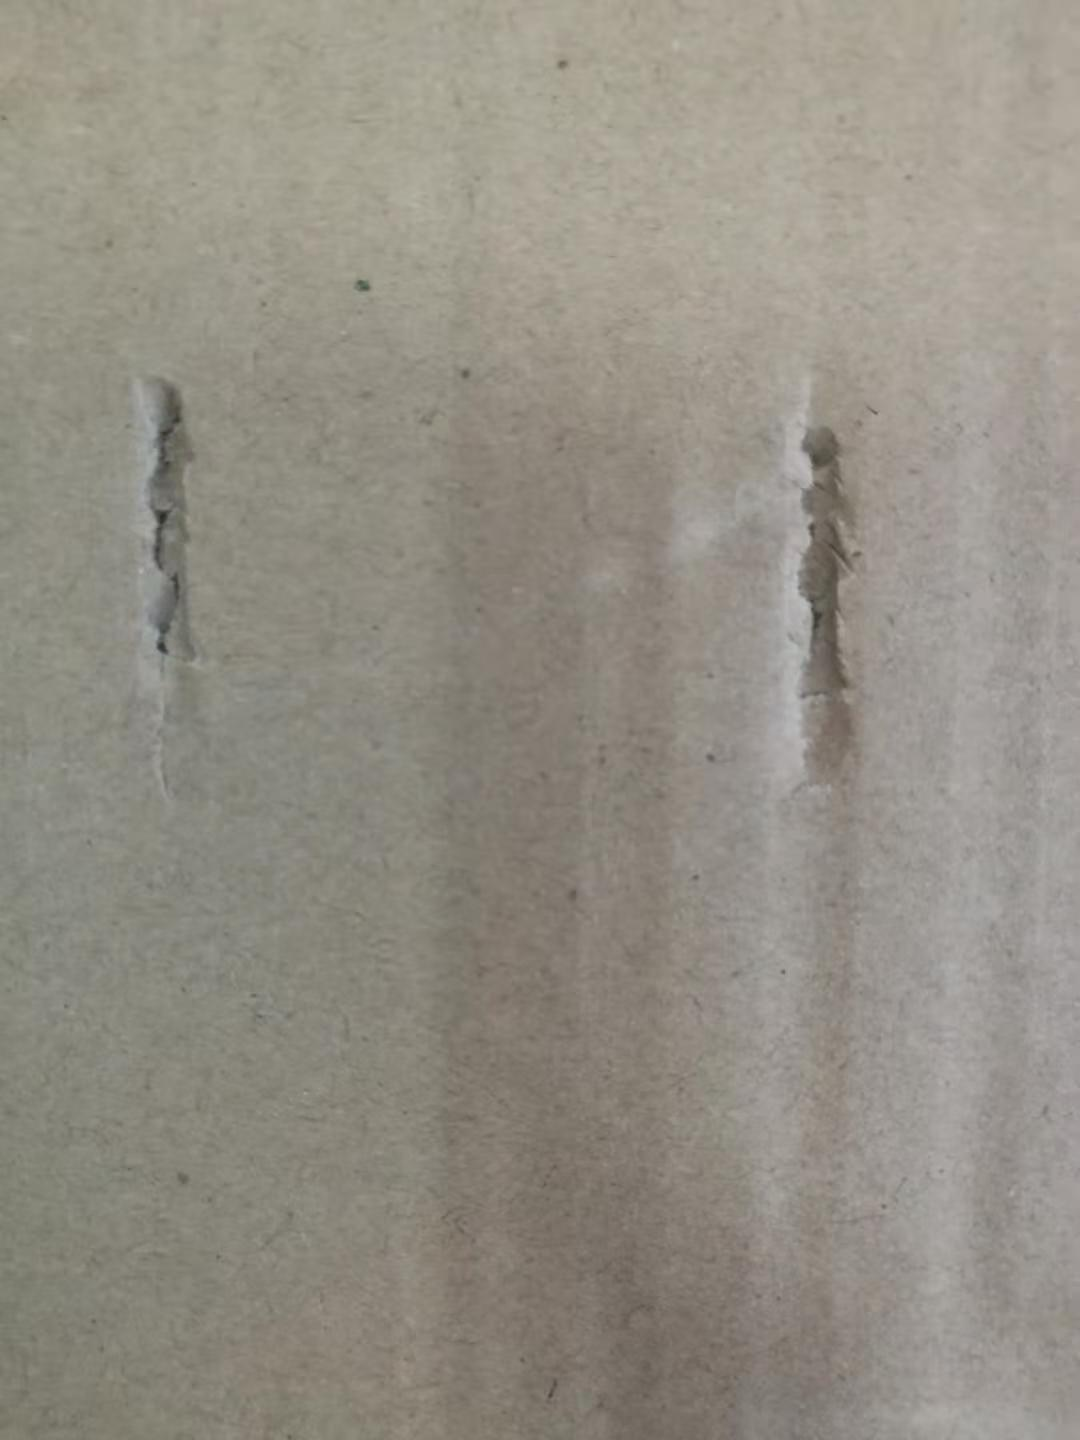defect: (577, 351, 937, 833), (79, 338, 269, 841)
